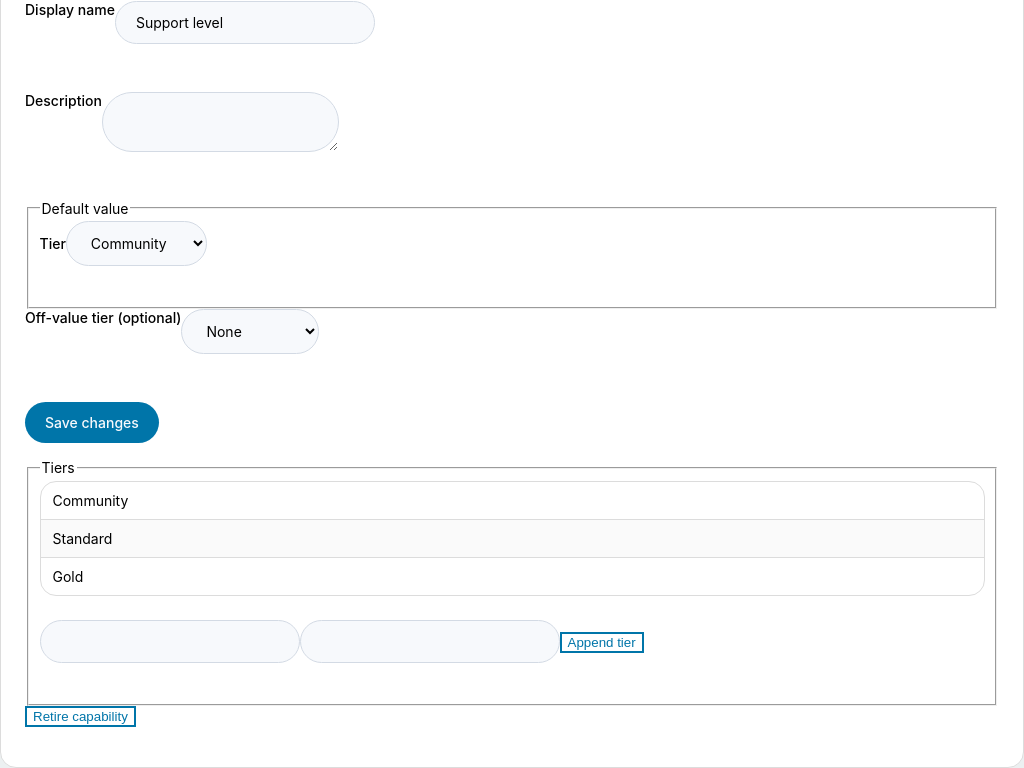
Test: CapabilityDetailRoute › reports a rejected tier append — the 409 for a tier that is not above the maximum
The width and height of the screenshot is (1024, 768).
(page scrolled)
Type "bronze" into the field named "New tier key". click: (170, 642)
box: [40,620,300,663]
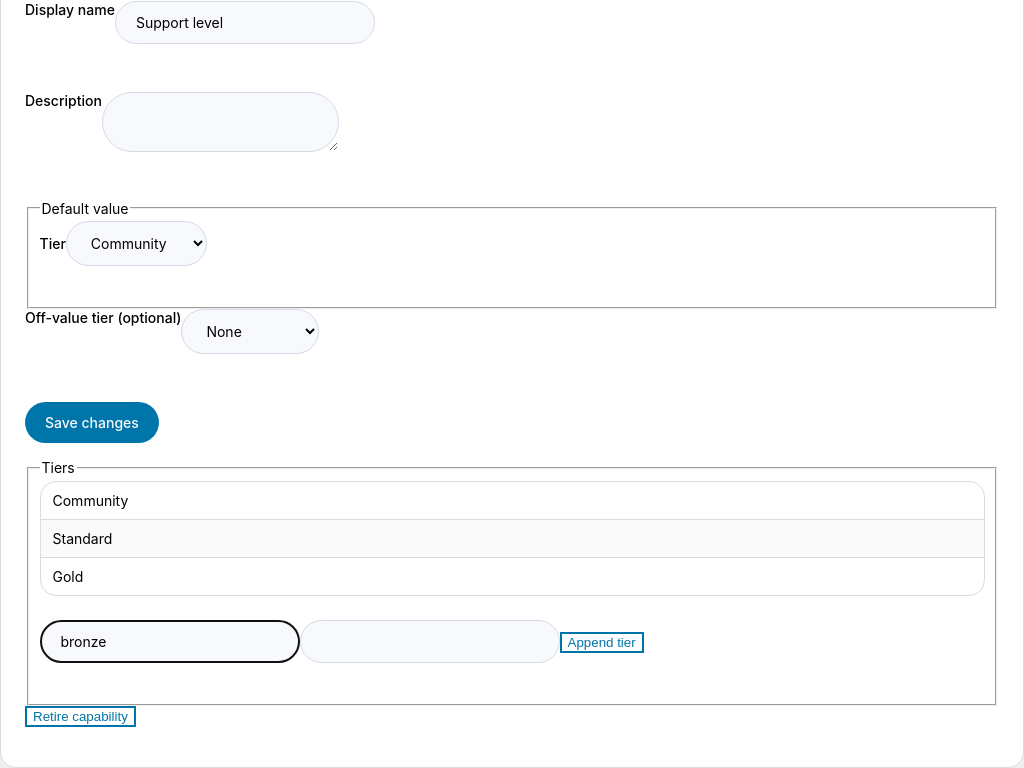
Type "Bronze" into the field named "New tier display name". click: (430, 642)
box: [300,620,560,663]
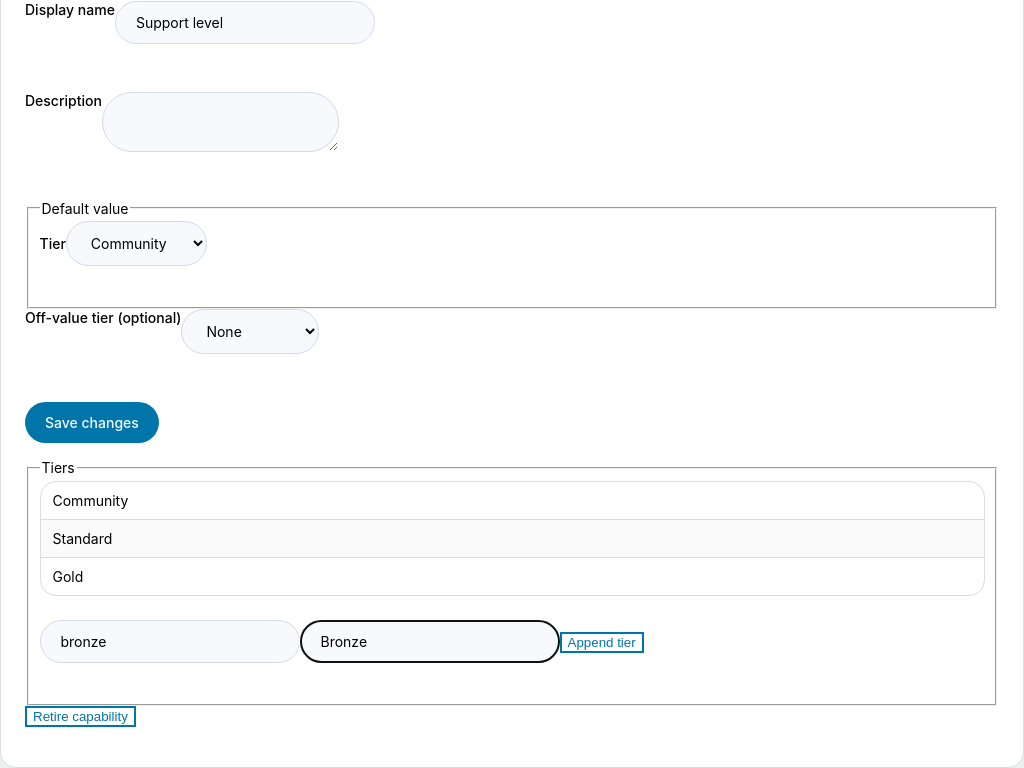
Click the button "Append tier". click: (602, 643)
box: [560,632,644,653]
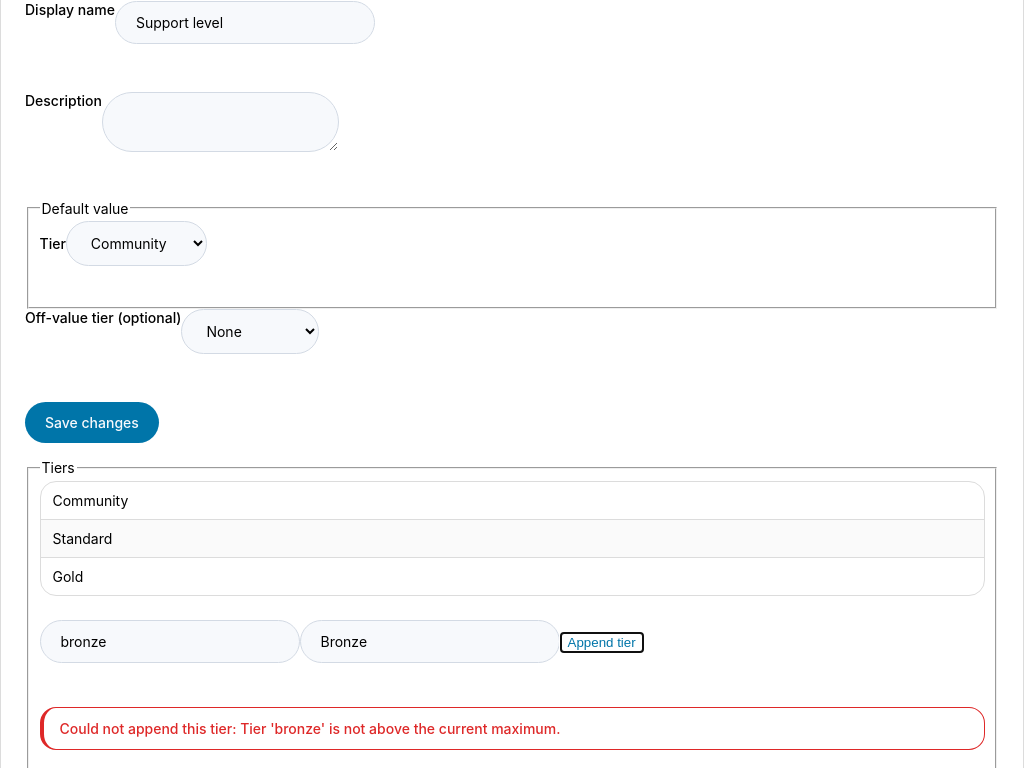
Now the message shows "Tier 'bronze' is not above the current maximum.", box [240,720,560,737]
